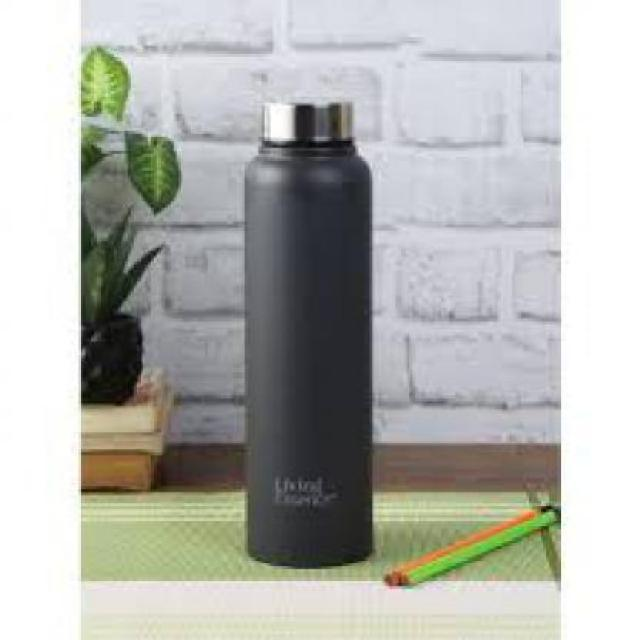Drinking: (224, 85, 404, 578)
